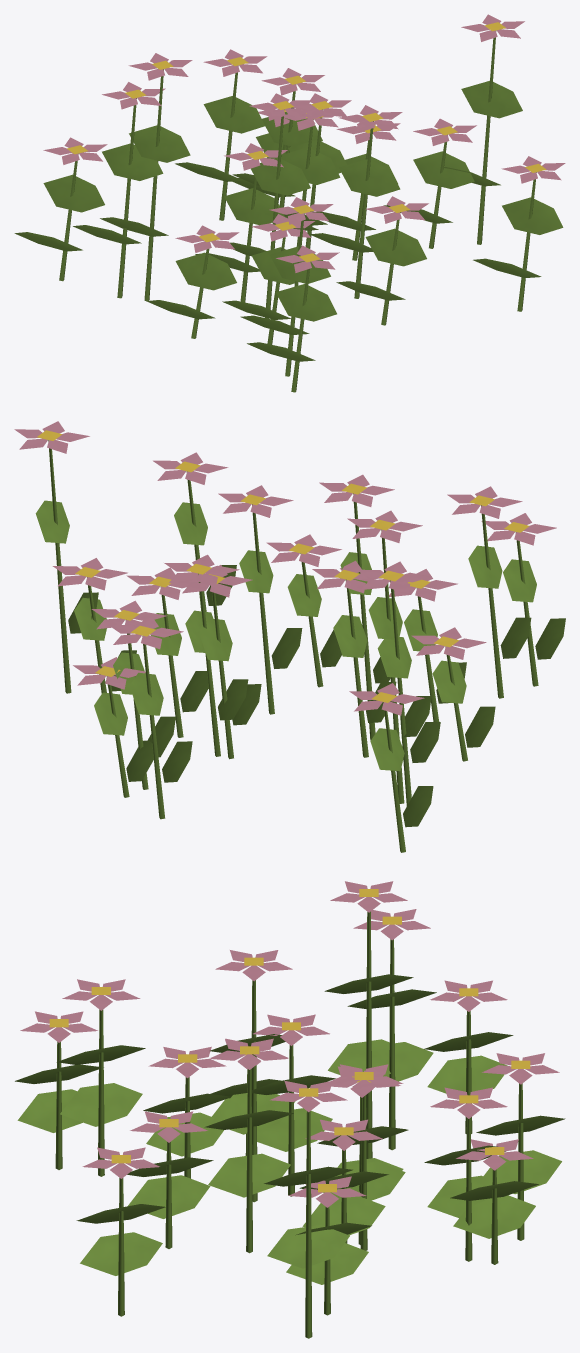
File: Flowers_Pink.glb
3 views of the same model, one above another, from view 1: azimuth 30°, elevation 25°; view 2: azimuth 150°, elevation 25°; view 3: azimuth 270°, elevation 25° (orthographic). The views are drawn at different scales.
Visible parts, largest first — view 1: Flowers_Pink; view 2: Flowers_Pink; view 3: Flowers_Pink.
Boxes of the visible parts, box(x1,y1,x2,y2) form: Flowers_Pink: box(14, 14, 565, 392); Flowers_Pink: box(14, 421, 565, 852); Flowers_Pink: box(15, 881, 565, 1338).
Size of the model in its own units: 1.34 by 0.6964 by 1.26.
Materials: 1 (1 with a texture image).
